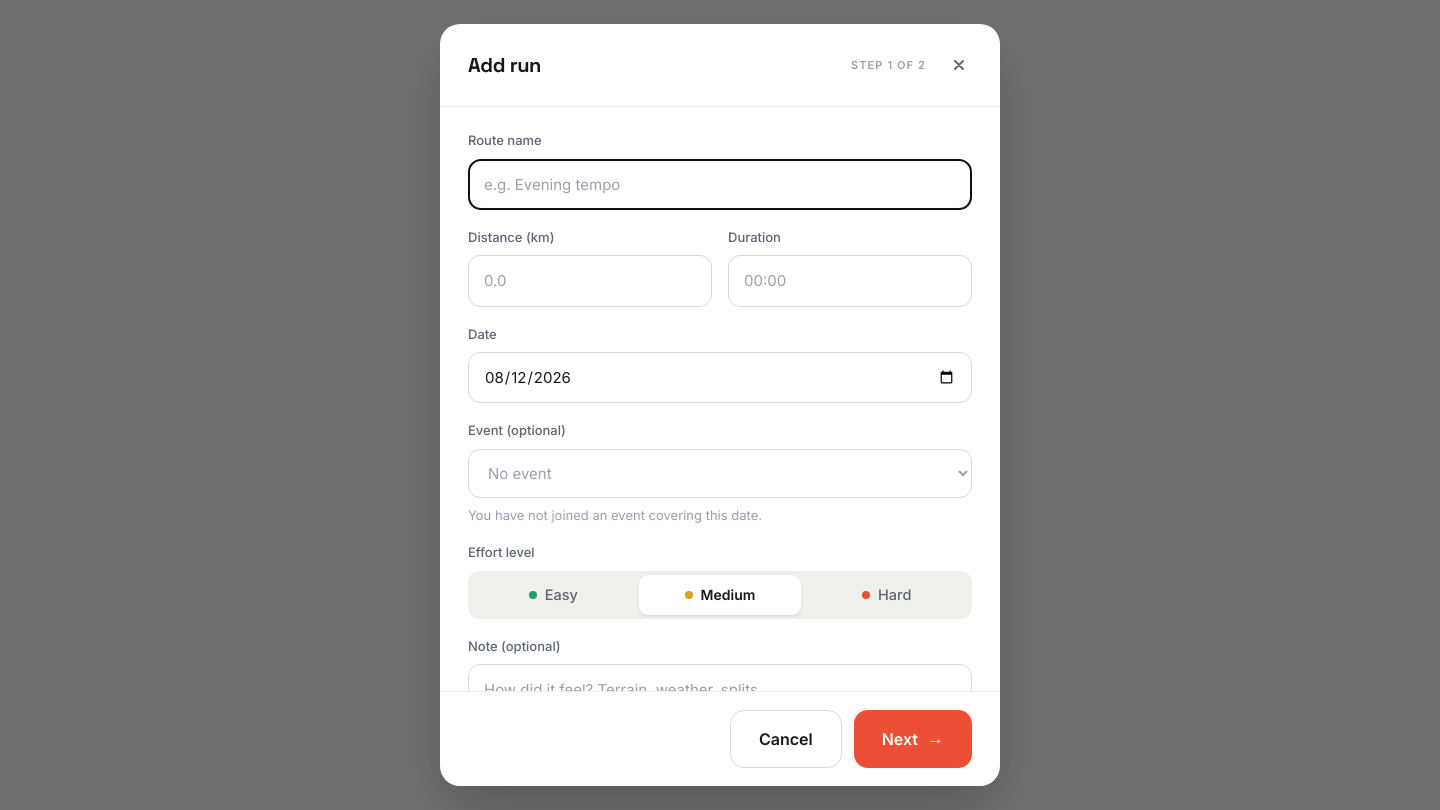
Test: Add run modal (RUN-23) › refuses to save an empty route name and says so inline (AC4)
This screenshot has width=1440, height=810.
Type "Evening tempo" into the field labelled "Route name" at [720, 184], box [468,158,972,210]
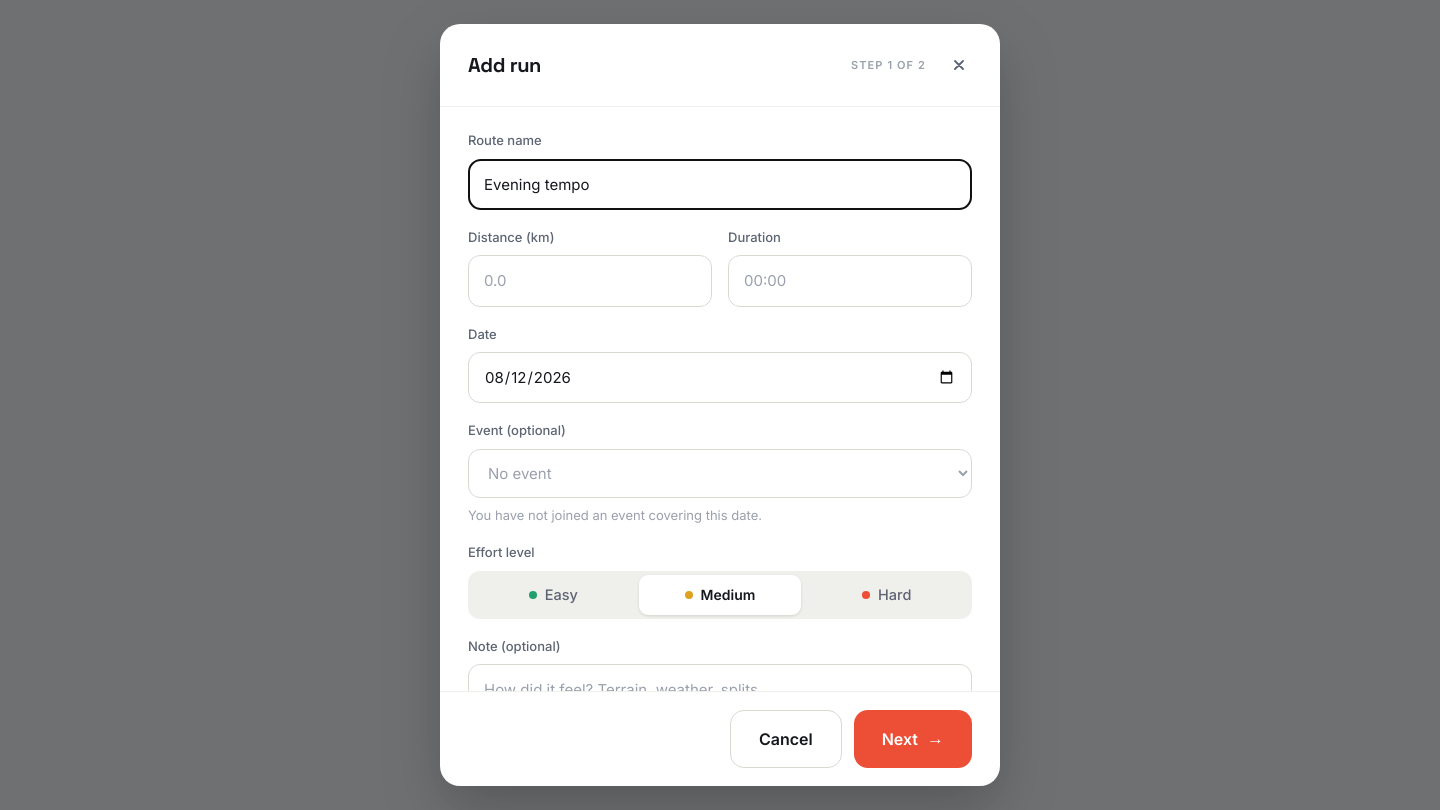
Type "8.2" into the field labelled "Distance (km)" at [590, 281], box [468,255,712,307]
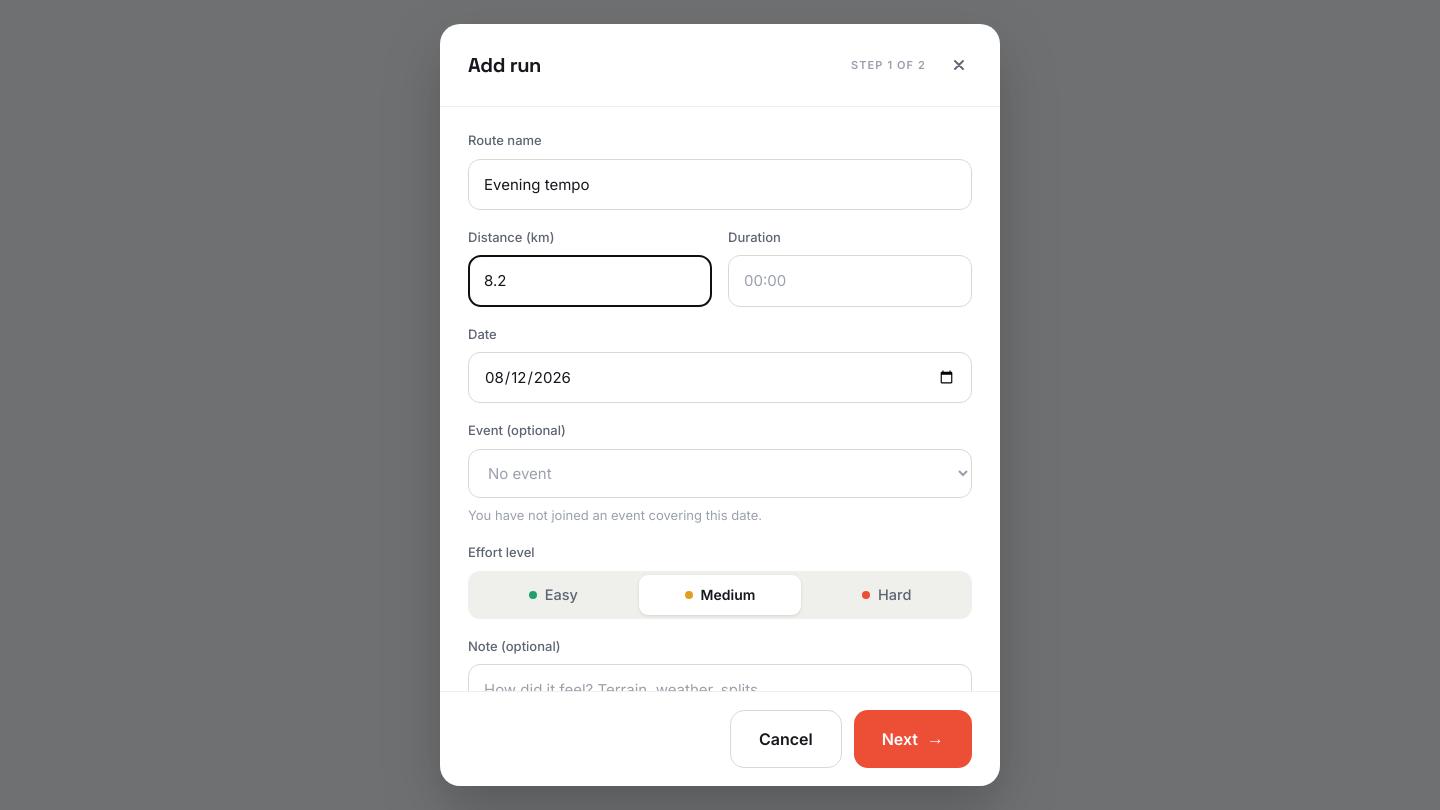
Type "42:15" into the field labelled "Duration" at [850, 281], box [728,255,972,307]
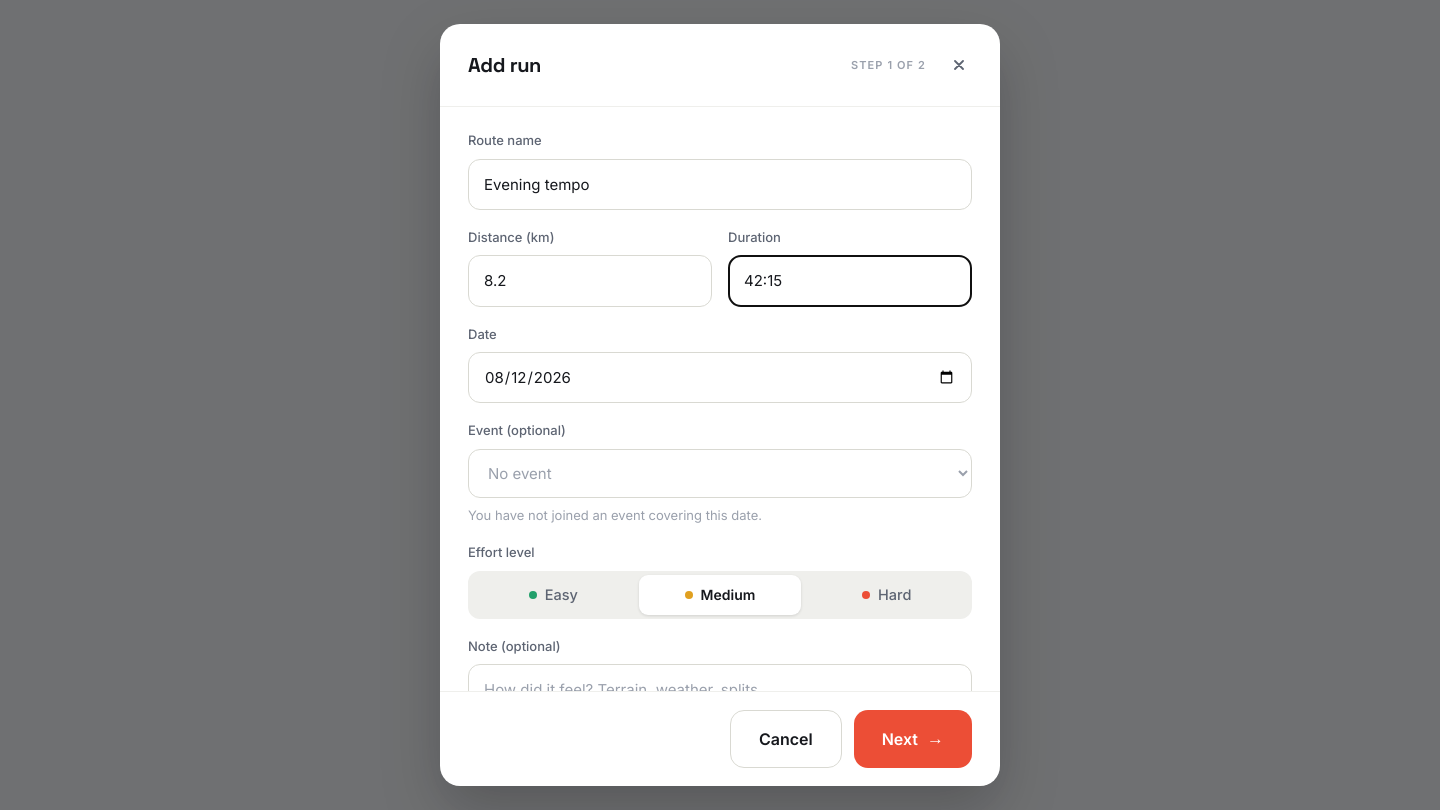
Clear the field labelled "Route name" at [720, 184], box [468,158,972,210]
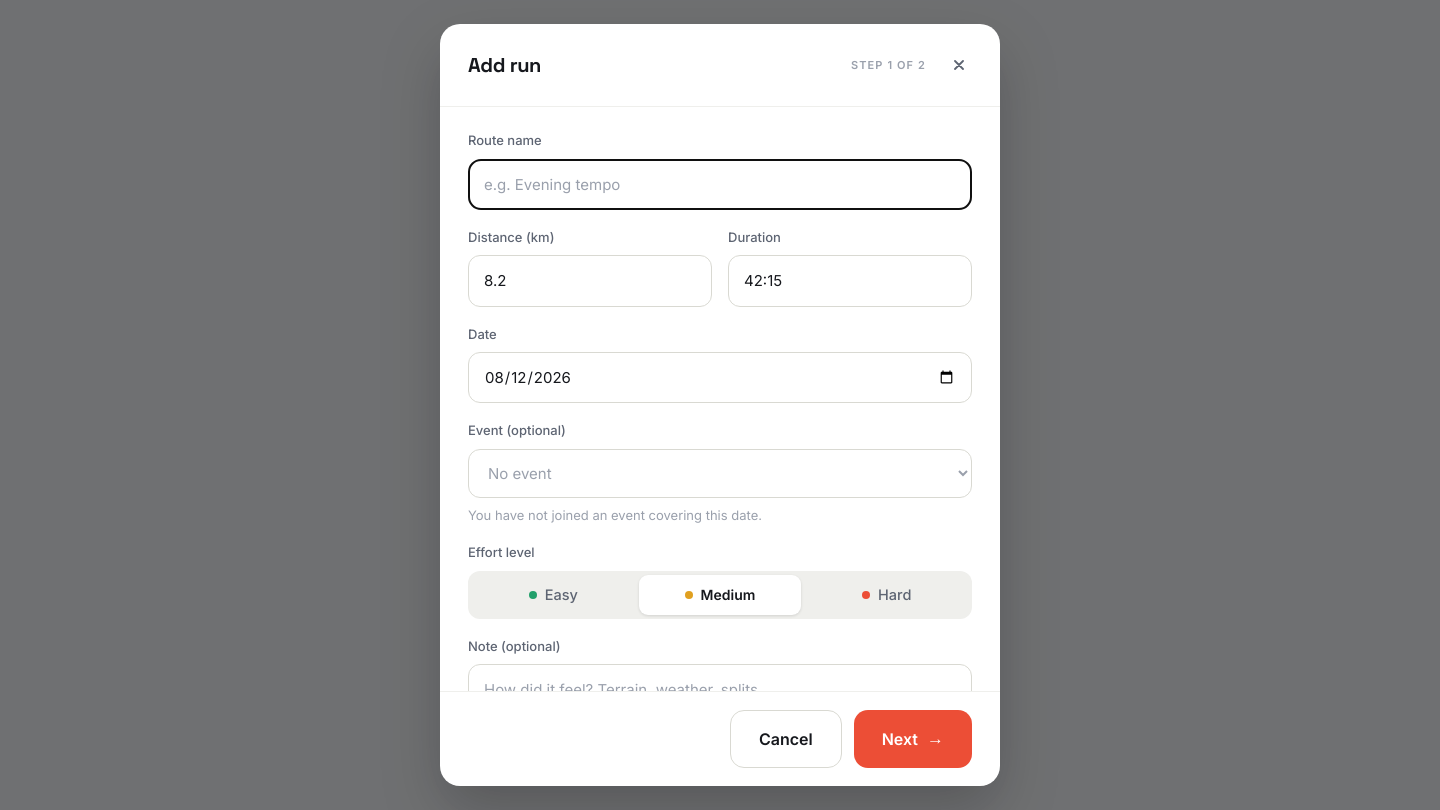
Click the button "Next →" at [913, 739], box [854,710,972,768]
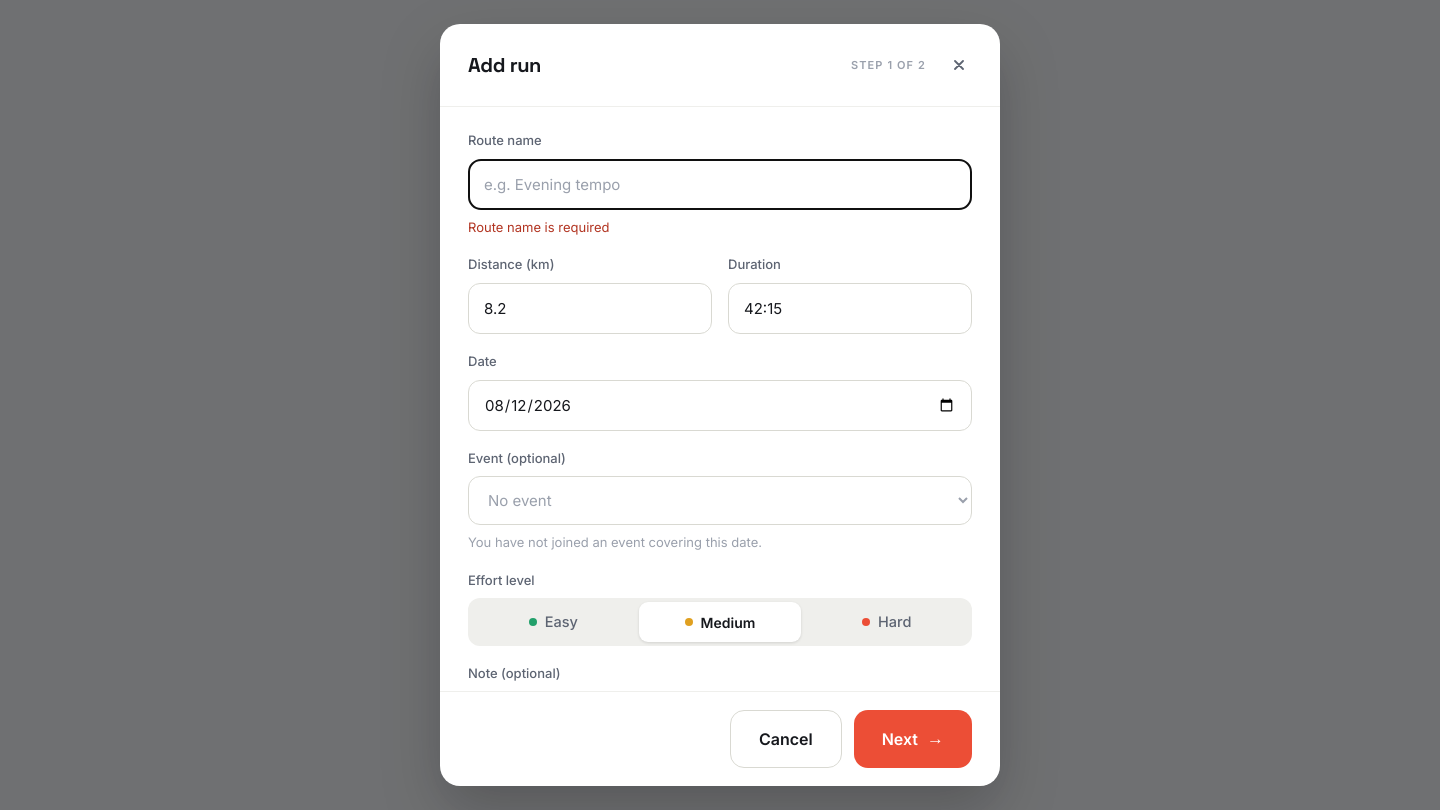
Result: the message "Route name is required" is shown at [468,219,610,235]
